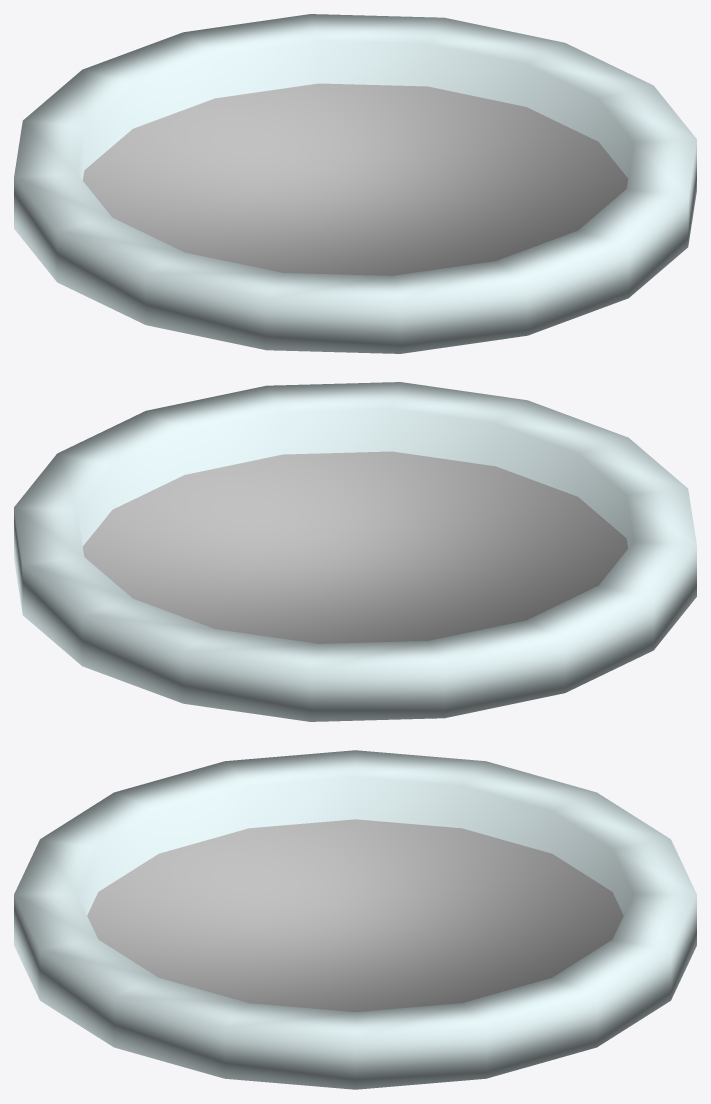
File: plate.fbx
3 renders of one model, top to bottom at view 1: azimuth 30°, elevation 25°; view 2: azimuth 150°, elevation 25°; view 3: azimuth 270°, elevation 25°, orthographic.
Visible parts, largest first — view 1: Cylinder.001; view 2: Cylinder.001; view 3: Cylinder.001.
Part boxes in pixels (left/top/right/bottom): Cylinder.001: left=14, top=14, right=696, bottom=353; Cylinder.001: left=14, top=382, right=696, bottom=721; Cylinder.001: left=14, top=750, right=696, bottom=1089.
Bounding box in the file's own units: 46.74 × 6.84 × 46.74.
